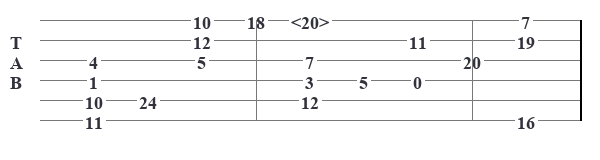0: (413, 72, 426, 88)
1: (89, 72, 102, 88)
10: (85, 92, 107, 108), (193, 12, 215, 28)
11: (85, 112, 107, 128), (409, 32, 431, 48)
12: (193, 32, 215, 48), (301, 92, 323, 108)
16: (517, 112, 539, 128)
18: (247, 12, 269, 28)
19: (517, 32, 539, 48)
20: (463, 52, 485, 68)
24: (139, 92, 161, 108)
3: (305, 72, 318, 88)
4: (89, 52, 102, 68)
5: (197, 52, 210, 68), (359, 72, 372, 88)
7: (305, 52, 318, 68), (521, 12, 534, 28)
harmonic: (291, 12, 333, 28)
